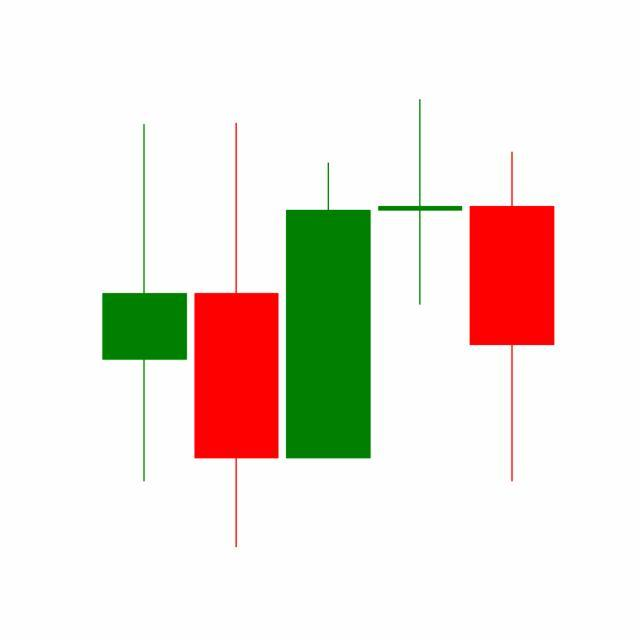Spinning Top: (374, 97, 468, 308)
